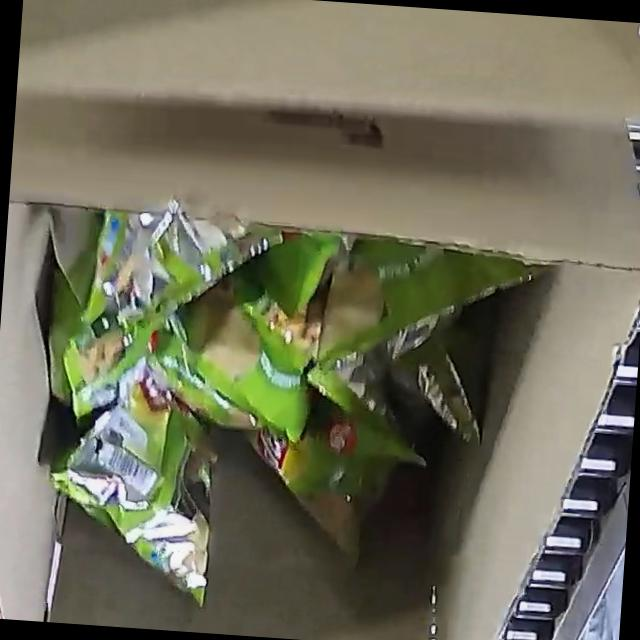yogurt: (29, 202, 554, 632)
